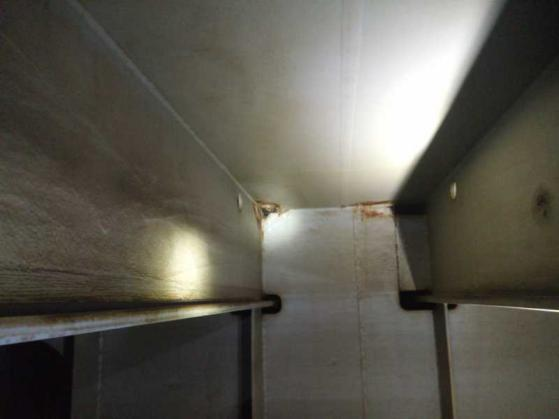corrosion: (249, 195, 292, 223), (362, 206, 391, 233)
